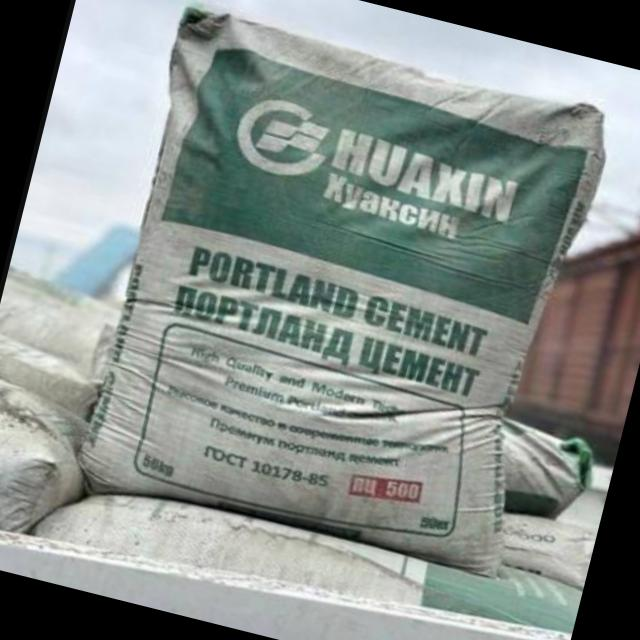KantongSemen: (59, 0, 622, 594)
